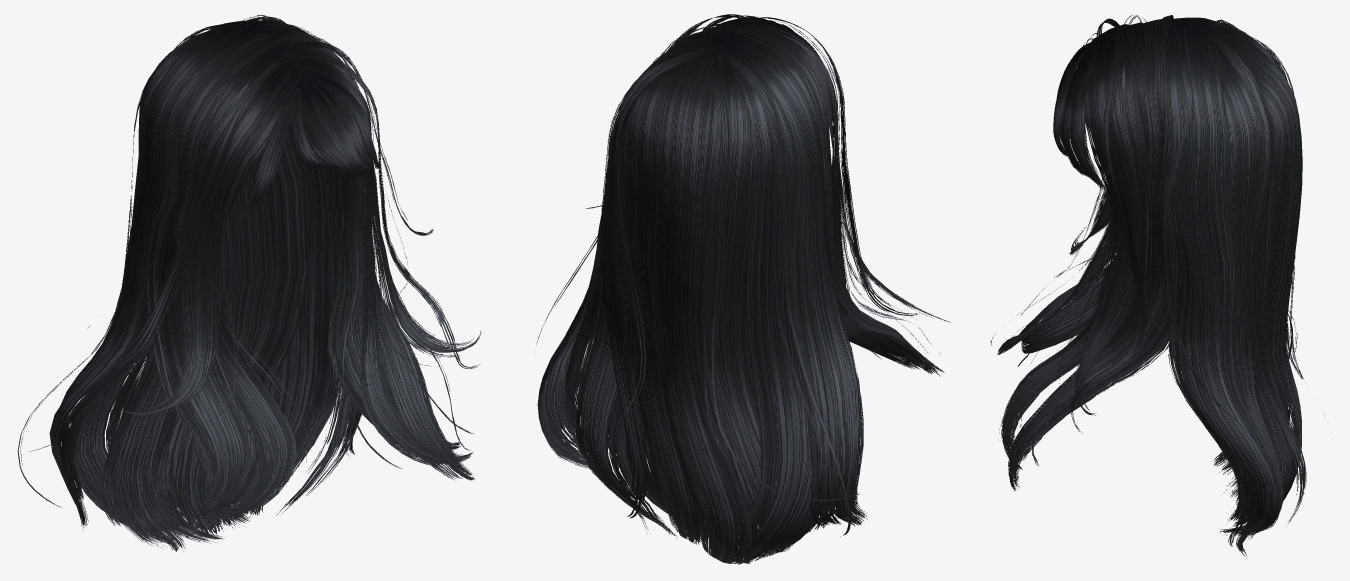
The model's file is haircut.fbx.
3 views of the same model, side by side, from view 1: azimuth 30°, elevation 25°; view 2: azimuth 150°, elevation 25°; view 3: azimuth 270°, elevation 25° (orthographic). The views are drawn at different scales.
Parts seen in each view (by area): view 1: Head; view 2: Head; view 3: Head.
Boxes of the visible parts, x1,y1,x2,y2 form: Head: (17,15,481,551); Head: (534,14,951,564); Head: (990,15,1306,556).
Bounding box in the file's own units: 0.3977 × 0.5193 × 0.3129.
1 material, 1 textured.
